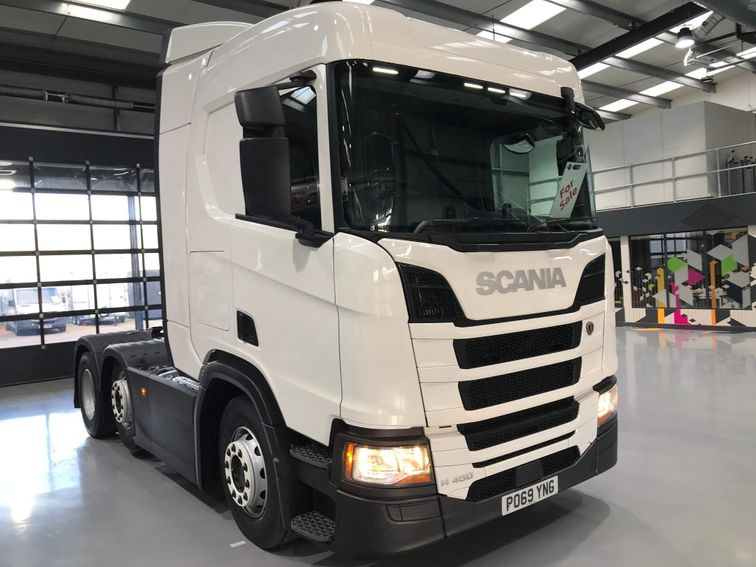Semi: (73, 2, 618, 556)
